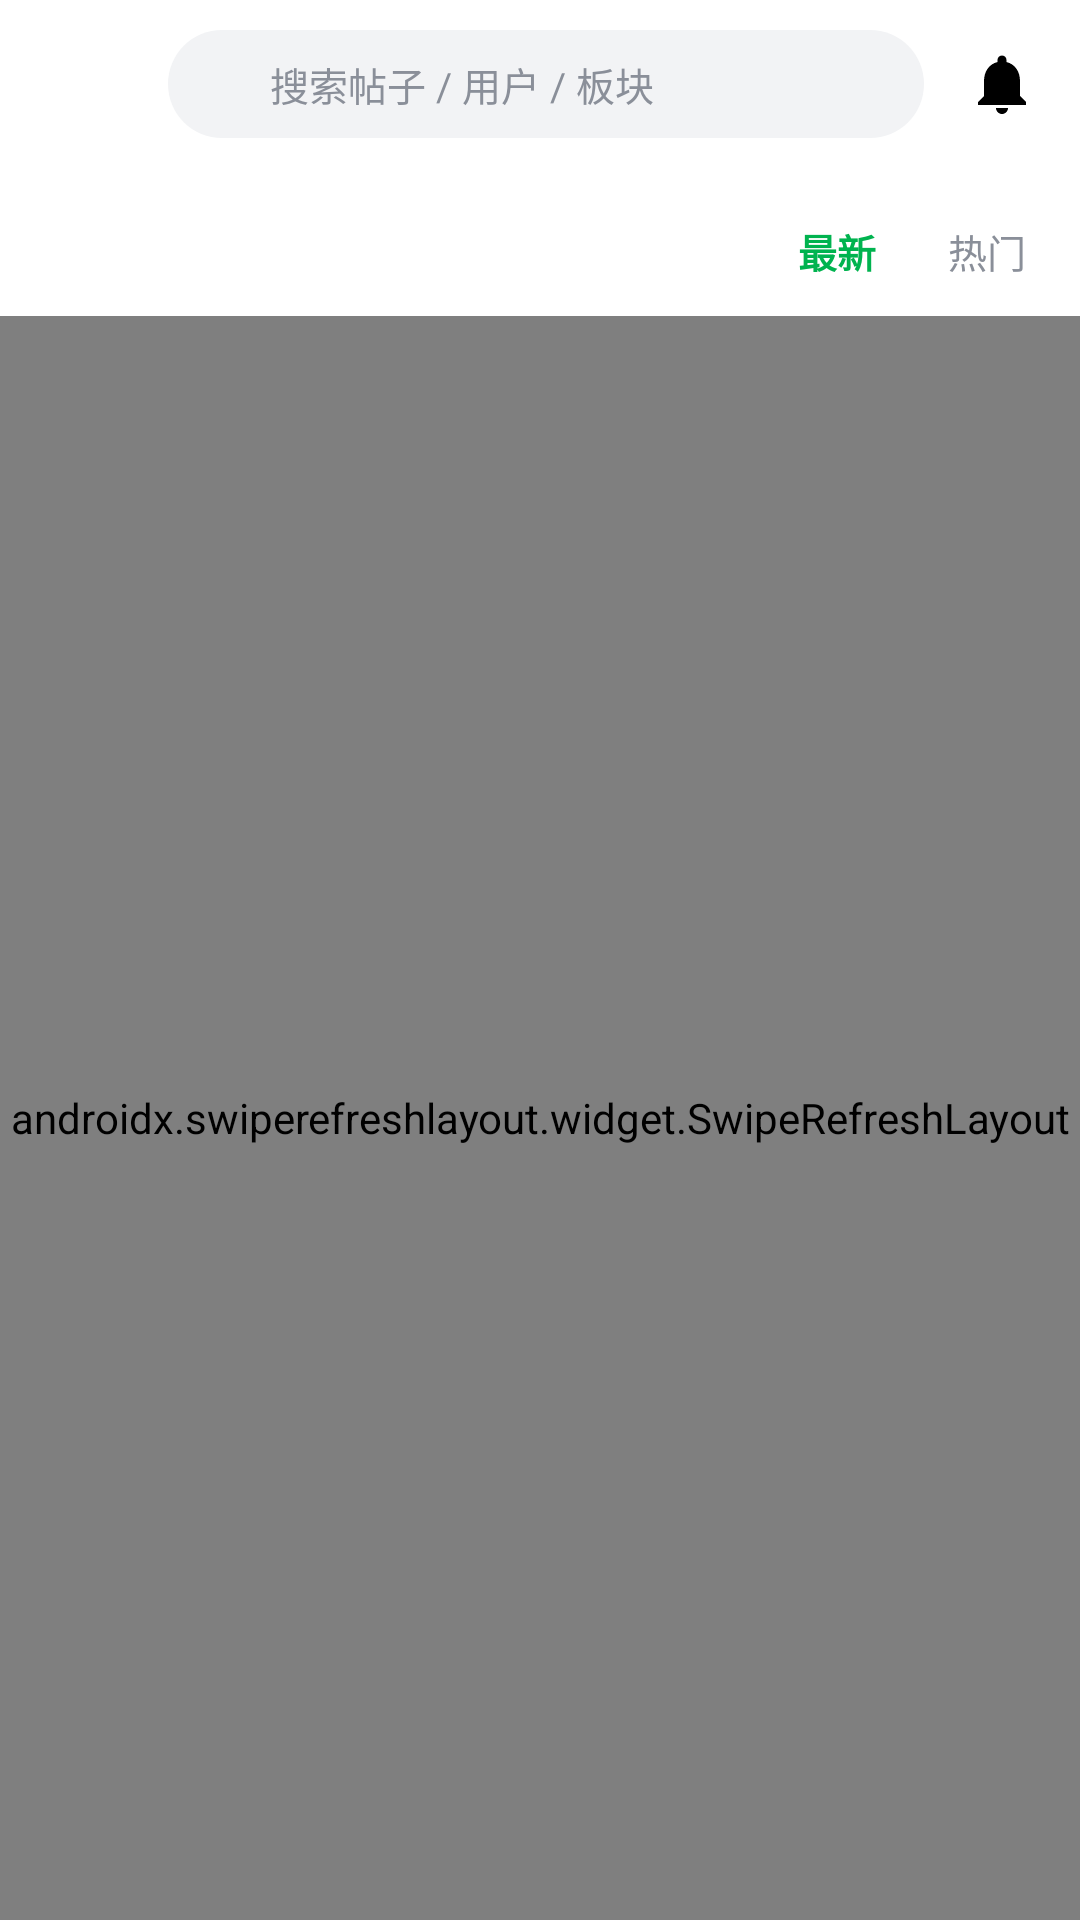

Named icons in this screenshot (1080px×1920px) and their bounding boxes, [x1, y1, x2, y2]:
bell: [978, 55, 1026, 114]
